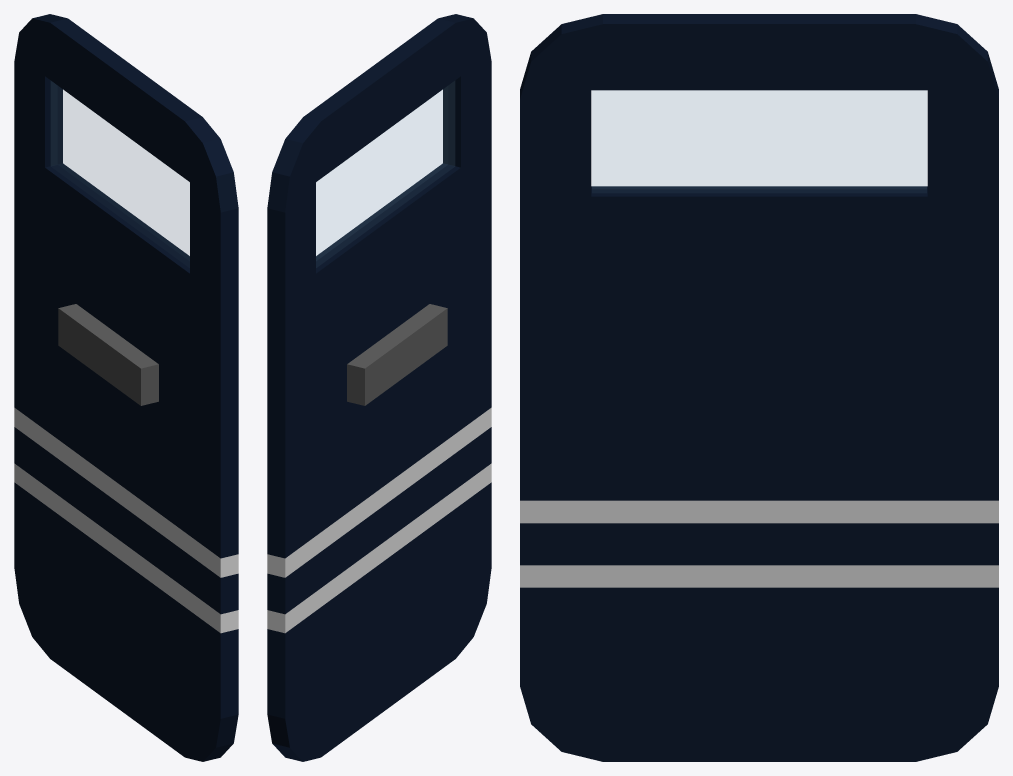
Rendered from Shield.fbx.
3 renders of one model, left to right at view 1: azimuth 30°, elevation 25°; view 2: azimuth 150°, elevation 25°; view 3: azimuth 270°, elevation 25°, orthographic. The views are drawn at different scales.
Parts seen in each view (by area): view 1: Shield; view 2: Shield; view 3: Shield.
Part boxes in pixels (x1=…): Shield: x1=14, y1=14, x2=238, y2=761; Shield: x1=267, y1=14, x2=491, y2=761; Shield: x1=520, y1=14, x2=998, y2=761.
Size of the model in its own units: 2 by 34 by 20.
